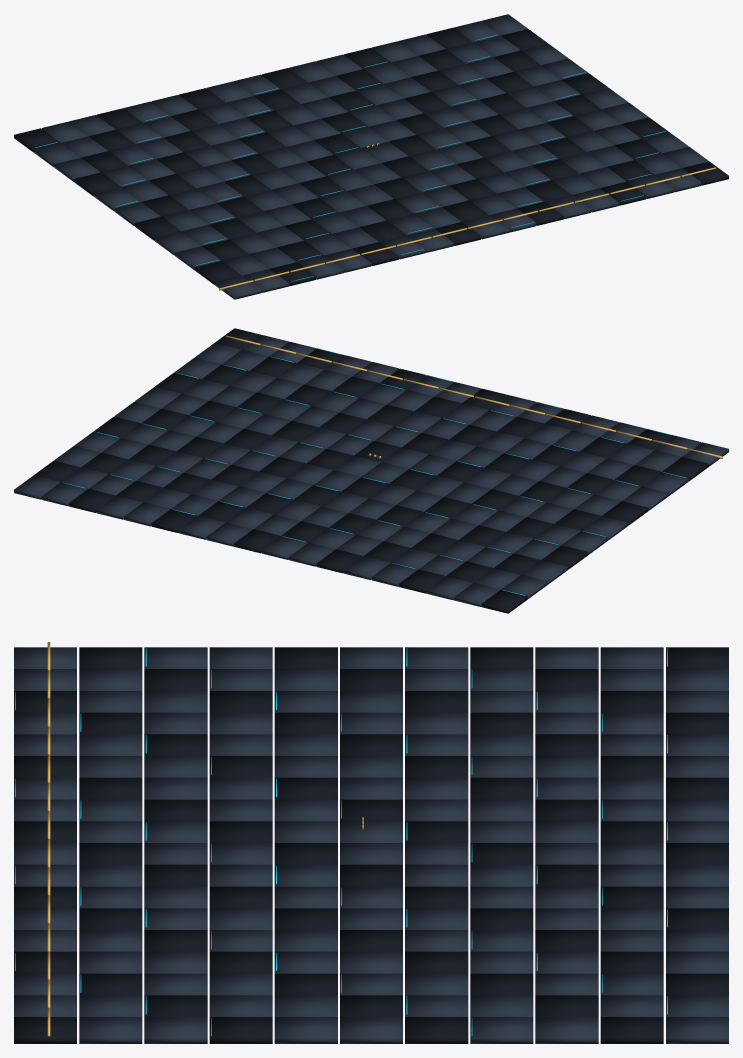
Rendered from 15_L93_ContaminationFreeFloorGrid.fbx.
3 views of the same model, one above another, from view 1: azimuth 30°, elevation 25°; view 2: azimuth 150°, elevation 25°; view 3: azimuth 270°, elevation 25° (orthographic). The views are drawn at different scales.
Visible parts, largest first — view 1: L92_ContaminationFreeFloorGrid_Part_0000, L92_ContaminationFreeFloorGrid_Part_0007, L92_ContaminationFreeFloorGrid_Part_0002, L92_ContaminationFreeFloorGrid_Part_0001, L92_ContaminationFreeFloorGrid_Part_0012, L92_ContaminationFreeFloorGrid_Part_0011, L92_ContaminationFreeFloorGrid_Part_0009, L92_ContaminationFreeFloorGrid_Part_0008, L92_ContaminationFreeFloorGrid_Part_0010, L92_ContaminationFreeFloorGrid_Part_0013, L92_ContaminationFreeFloorGrid_Part_0003, L92_ContaminationFreeFloorGrid_Part_0014 (+2 smaller); view 2: L92_ContaminationFreeFloorGrid_Part_0000, L92_ContaminationFreeFloorGrid_Part_0007, L92_ContaminationFreeFloorGrid_Part_0002, L92_ContaminationFreeFloorGrid_Part_0001, L92_ContaminationFreeFloorGrid_Part_0011, L92_ContaminationFreeFloorGrid_Part_0012, L92_ContaminationFreeFloorGrid_Part_0008, L92_ContaminationFreeFloorGrid_Part_0009, L92_ContaminationFreeFloorGrid_Part_0010, L92_ContaminationFreeFloorGrid_Part_0013, L92_ContaminationFreeFloorGrid_Part_0003, L92_ContaminationFreeFloorGrid_Part_0014 (+2 smaller); view 3: L92_ContaminationFreeFloorGrid_Part_0002, L92_ContaminationFreeFloorGrid_Part_0001, L92_ContaminationFreeFloorGrid_Part_0012, L92_ContaminationFreeFloorGrid_Part_0009, L92_ContaminationFreeFloorGrid_Part_0010, L92_ContaminationFreeFloorGrid_Part_0011, L92_ContaminationFreeFloorGrid_Part_0000, L92_ContaminationFreeFloorGrid_Part_0008, L92_ContaminationFreeFloorGrid_Part_0007, L92_ContaminationFreeFloorGrid_Part_0013, L92_ContaminationFreeFloorGrid_Part_0003, L92_ContaminationFreeFloorGrid_Part_0014.
Boxes of the visible parts, x1,y1,x2,y2 form: L92_ContaminationFreeFloorGrid_Part_0000: (14, 108, 331, 286); L92_ContaminationFreeFloorGrid_Part_0007: (34, 115, 288, 299); L92_ContaminationFreeFloorGrid_Part_0002: (336, 27, 653, 225); L92_ContaminationFreeFloorGrid_Part_0001: (179, 68, 496, 265); L92_ContaminationFreeFloorGrid_Part_0012: (399, 21, 673, 212); L92_ContaminationFreeFloorGrid_Part_0011: (316, 41, 591, 232); L92_ContaminationFreeFloorGrid_Part_0009: (199, 74, 453, 259); L92_ContaminationFreeFloorGrid_Part_0008: (116, 95, 371, 279); L92_ContaminationFreeFloorGrid_Part_0010: (274, 61, 516, 239); L92_ContaminationFreeFloorGrid_Part_0013: (481, 14, 708, 192); L92_ContaminationFreeFloorGrid_Part_0003: (501, 29, 728, 185); L92_ContaminationFreeFloorGrid_Part_0014: (219, 167, 716, 290); L92_ContaminationFreeFloorGrid_Part_0000: (364, 429, 708, 613); L92_ContaminationFreeFloorGrid_Part_0007: (426, 435, 728, 606); L92_ContaminationFreeFloorGrid_Part_0002: (69, 348, 426, 532); L92_ContaminationFreeFloorGrid_Part_0001: (234, 388, 591, 573); L92_ContaminationFreeFloorGrid_Part_0011: (124, 362, 453, 539); L92_ContaminationFreeFloorGrid_Part_0012: (41, 341, 370, 519); L92_ContaminationFreeFloorGrid_Part_0008: (344, 415, 653, 586); L92_ContaminationFreeFloorGrid_Part_0009: (261, 395, 571, 566); L92_ContaminationFreeFloorGrid_Part_0010: (206, 382, 488, 546); L92_ContaminationFreeFloorGrid_Part_0013: (14, 335, 288, 499); L92_ContaminationFreeFloorGrid_Part_0003: (34, 328, 261, 482); L92_ContaminationFreeFloorGrid_Part_0014: (226, 335, 722, 458); L92_ContaminationFreeFloorGrid_Part_0002: (14, 886, 728, 1016); L92_ContaminationFreeFloorGrid_Part_0001: (14, 756, 728, 886); L92_ContaminationFreeFloorGrid_Part_0012: (14, 930, 728, 1016); L92_ContaminationFreeFloorGrid_Part_0009: (14, 756, 728, 842); L92_ContaminationFreeFloorGrid_Part_0010: (14, 821, 728, 886); L92_ContaminationFreeFloorGrid_Part_0011: (14, 864, 728, 951); L92_ContaminationFreeFloorGrid_Part_0000: (14, 647, 728, 777); L92_ContaminationFreeFloorGrid_Part_0008: (14, 691, 728, 777); L92_ContaminationFreeFloorGrid_Part_0007: (14, 647, 728, 712); L92_ContaminationFreeFloorGrid_Part_0013: (14, 995, 728, 1043); L92_ContaminationFreeFloorGrid_Part_0003: (14, 995, 663, 1043); L92_ContaminationFreeFloorGrid_Part_0014: (47, 642, 50, 1036).
Size of the model in its own units: 2721 by 84.5 by 2084.
